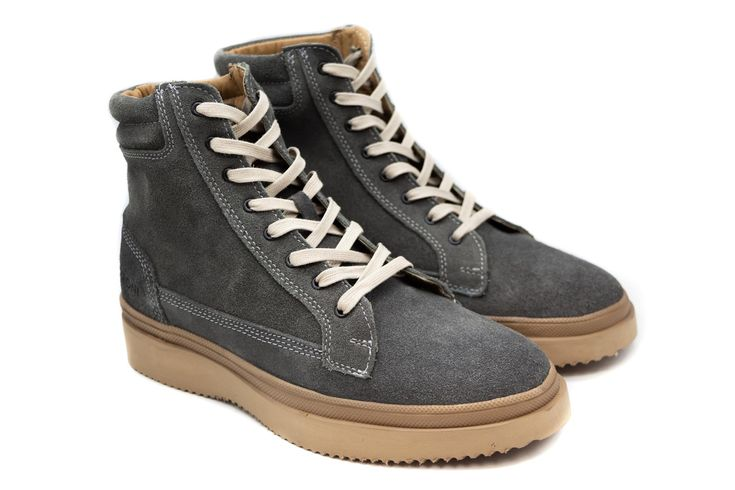gamuza: (108, 46, 624, 406)
